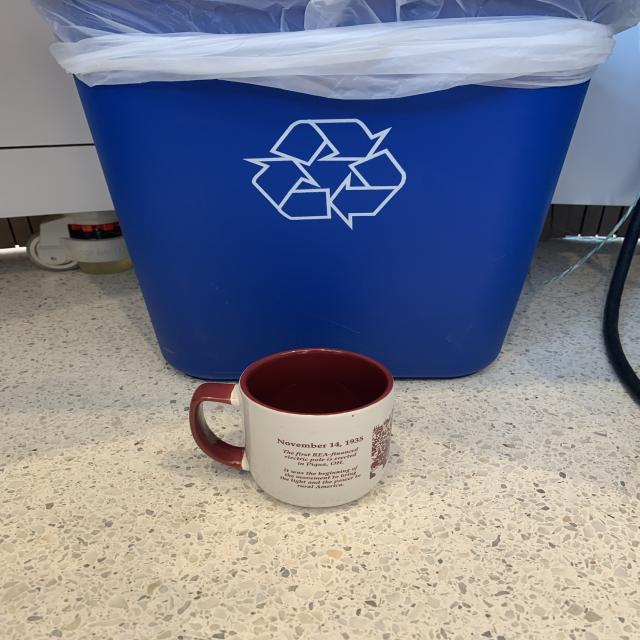Cup: (185, 344, 403, 516)
